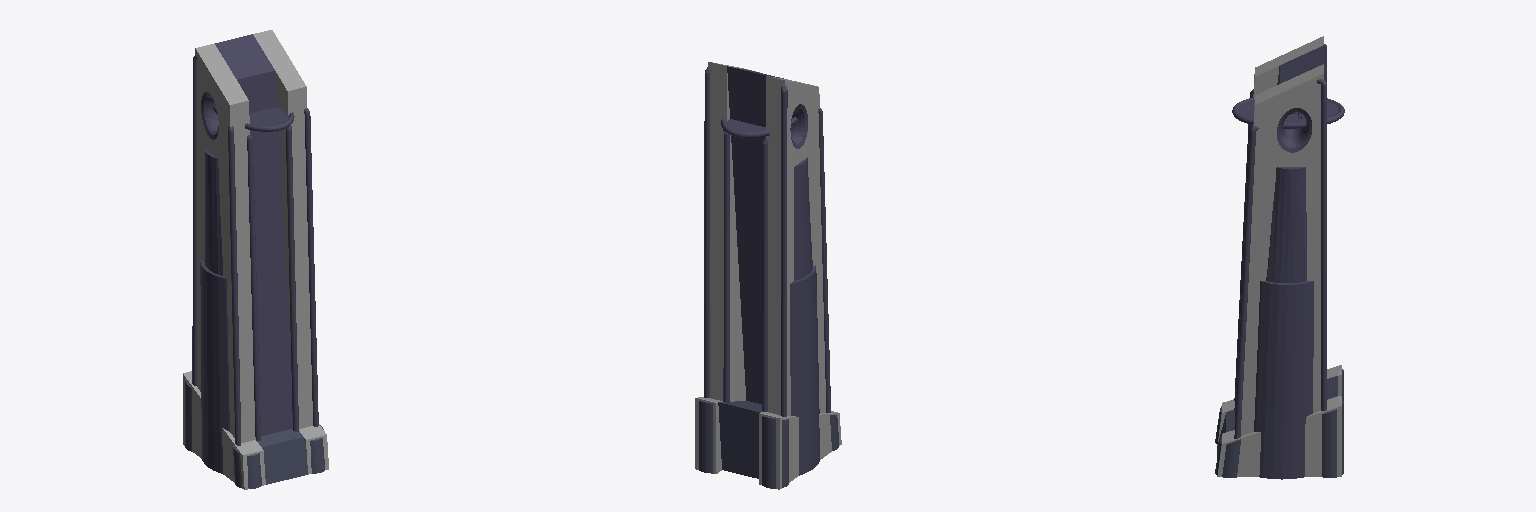
The model's file is modern_office_building.obj.
3 renders of one model, left to right at view 1: azimuth 30°, elevation 25°; view 2: azimuth 150°, elevation 25°; view 3: azimuth 270°, elevation 25°, orthographic.
Visible parts, largest first — view 1: Main_Building, Siding.001, Cube_Cube.001, Corner_Tube.002, Corner_Tube.005, Corner_Tube.001, Upper_Siding.001, Corner_Tube.004, Corner_Tube, Cylinder.003, Deck; view 2: Main_Building, Cube_Cube.001, Siding.001, Corner_Tube, Corner_Tube.003, Upper_Siding.001, Path_for_Tube.003, Path_for_Tube.004, Cylinder.001, Corner_Tube.002, Cylinder; view 3: Main_Building, Siding, Upper_Siding, Cube_Cube.001, Corner_Tube.003, Corner_Tube.001, Cylinder, Cylinder.002, Deck, View_deck_1.
Boxes of the visible parts, box(x1,y1,x2,y2) form: Main_Building: box(195, 30, 312, 442); Siding.001: box(200, 260, 229, 473); Cube_Cube.001: box(183, 371, 328, 489); Corner_Tube.002: box(228, 126, 240, 445); Corner_Tube.005: box(286, 125, 298, 431); Corner_Tube.001: box(304, 108, 318, 426); Upper_Siding.001: box(205, 149, 222, 275); Corner_Tube.004: box(247, 135, 260, 440); Corner_Tube: box(192, 55, 197, 385); Cylinder.003: box(233, 444, 261, 488); Deck: box(249, 107, 289, 125); Main_Building: box(708, 62, 825, 415); Cube_Cube.001: box(695, 397, 841, 489); Siding.001: box(790, 265, 819, 475); Corner_Tube: box(781, 86, 787, 416); Corner_Tube.003: box(704, 67, 710, 397); Upper_Siding.001: box(794, 157, 812, 280); Path_for_Tube.003: box(723, 130, 729, 402); Path_for_Tube.004: box(762, 138, 768, 411); Cylinder.001: box(762, 416, 788, 488); Corner_Tube.002: box(818, 108, 830, 412); Cylinder: box(699, 401, 712, 473); Main_Building: box(1241, 36, 1323, 435); Siding: box(1254, 281, 1313, 479); Upper_Siding: box(1266, 167, 1306, 282); Cube_Cube.001: box(1217, 365, 1341, 476); Corner_Tube.003: box(1317, 79, 1326, 410); Corner_Tube.001: box(1234, 126, 1258, 438); Cylinder: box(1322, 400, 1343, 477); Cylinder.002: box(1215, 438, 1240, 477); Deck: box(1238, 100, 1338, 122); View_deck_1: box(1232, 97, 1344, 128).
Size of the model in its own units: 0.2429 by 1 by 0.2926.